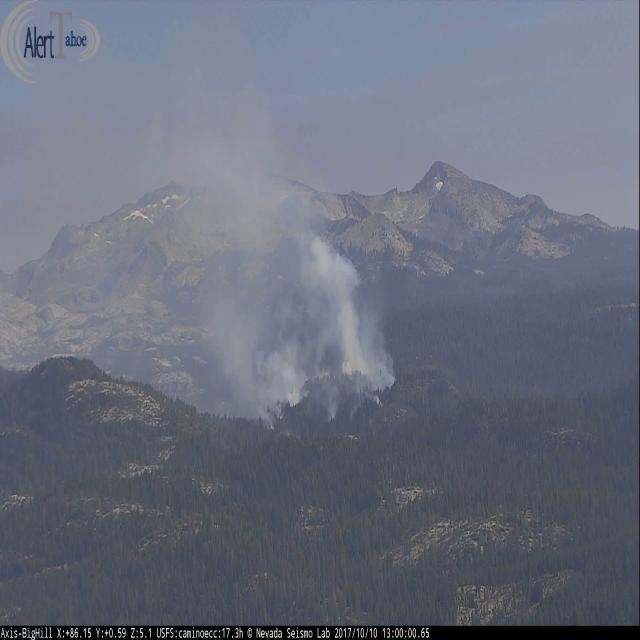smoke: (192, 128, 400, 424)
